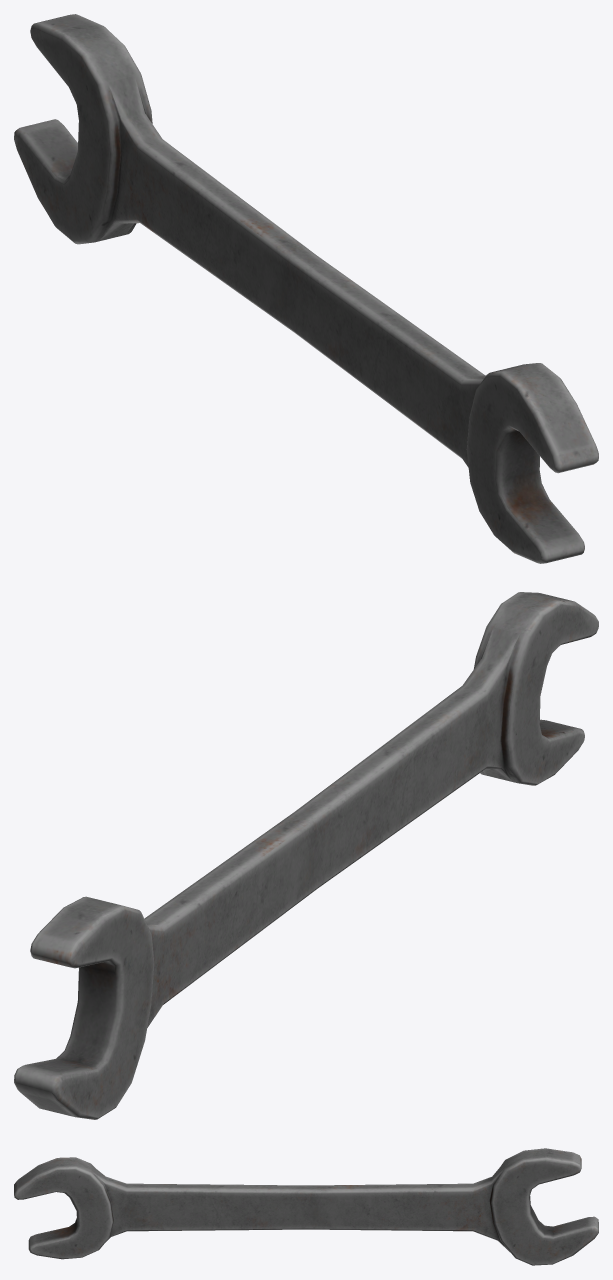
File: wrench_two_sided.glb
3 views of the same model, one above another, from view 1: azimuth 30°, elevation 25°; view 2: azimuth 150°, elevation 25°; view 3: azimuth 270°, elevation 25° (orthographic). The views are drawn at different scales.
Parts seen in each view (by area): view 1: WrenchTwoSided_1; view 2: WrenchTwoSided_1; view 3: WrenchTwoSided_1.
Part boxes in pixels (x1=…): WrenchTwoSided_1: x1=14, y1=14, x2=598, y2=563; WrenchTwoSided_1: x1=14, y1=592, x2=598, y2=1119; WrenchTwoSided_1: x1=14, y1=1148, x2=598, y2=1265.
Bounding box in the file's own units: 0.0158 × 0.0682 × 0.3356.
1 material, 1 textured.
